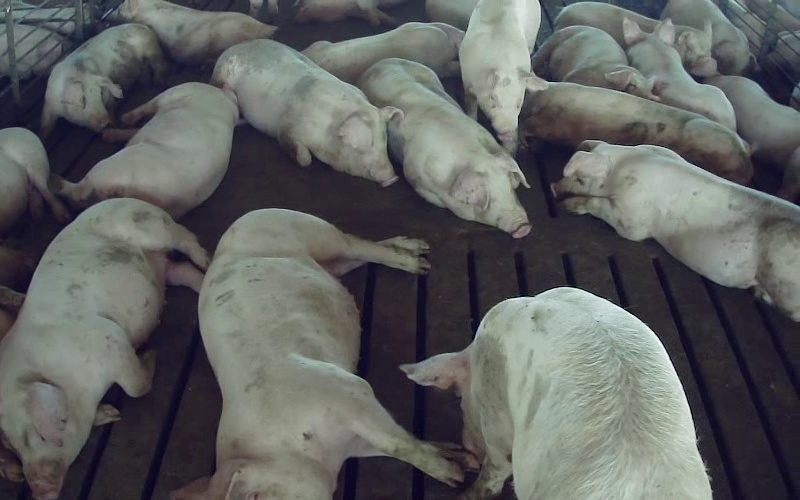pig: (174, 210, 466, 499), (401, 287, 711, 499), (0, 198, 207, 499), (551, 140, 799, 320), (358, 58, 530, 237), (212, 39, 401, 185), (54, 82, 238, 217), (520, 82, 752, 183), (695, 57, 799, 201), (41, 23, 166, 137), (459, 0, 545, 154), (623, 18, 735, 129), (111, 0, 275, 63), (302, 22, 463, 83), (532, 26, 657, 99), (660, 0, 750, 74)
